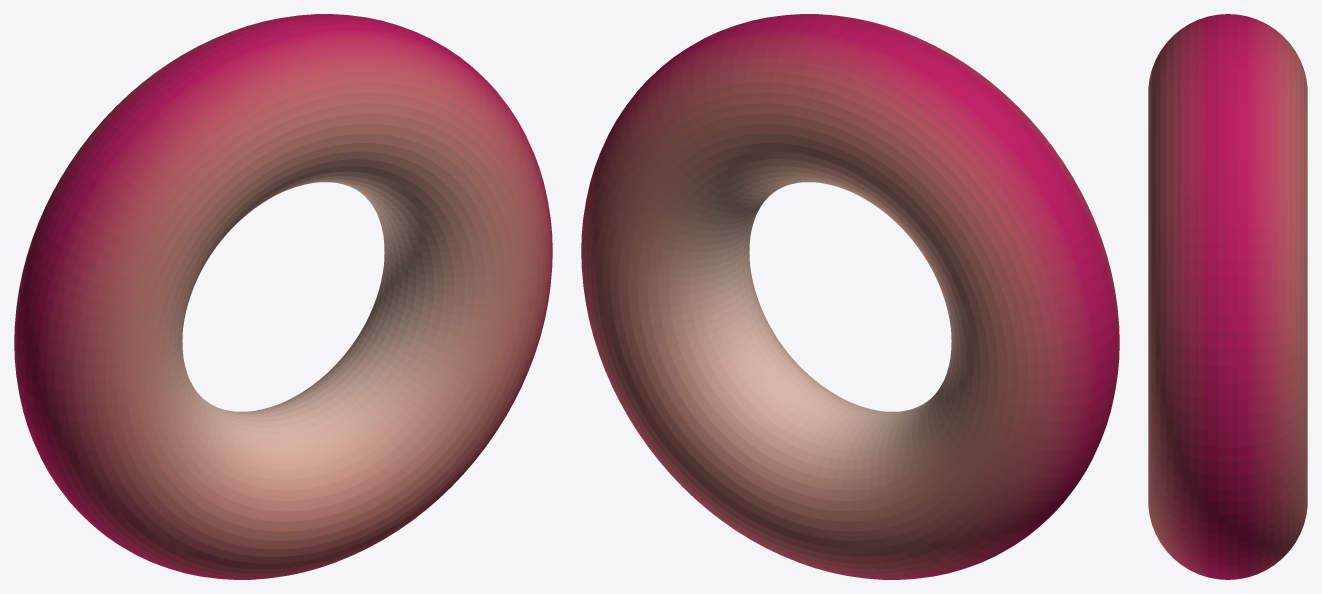
3 renders of one model, left to right at view 1: azimuth 30°, elevation 25°; view 2: azimuth 150°, elevation 25°; view 3: azimuth 270°, elevation 25°, orthographic. The views are drawn at different scales.
Visible parts, largest first — view 1: world; view 2: world; view 3: world.
Boxes of the visible parts, bbox=[...] form: world: bbox=[14, 14, 552, 579]; world: bbox=[581, 14, 1119, 579]; world: bbox=[1148, 14, 1307, 579].
Size of the model in its own units: 28.8 by 28.8 by 8.12.
